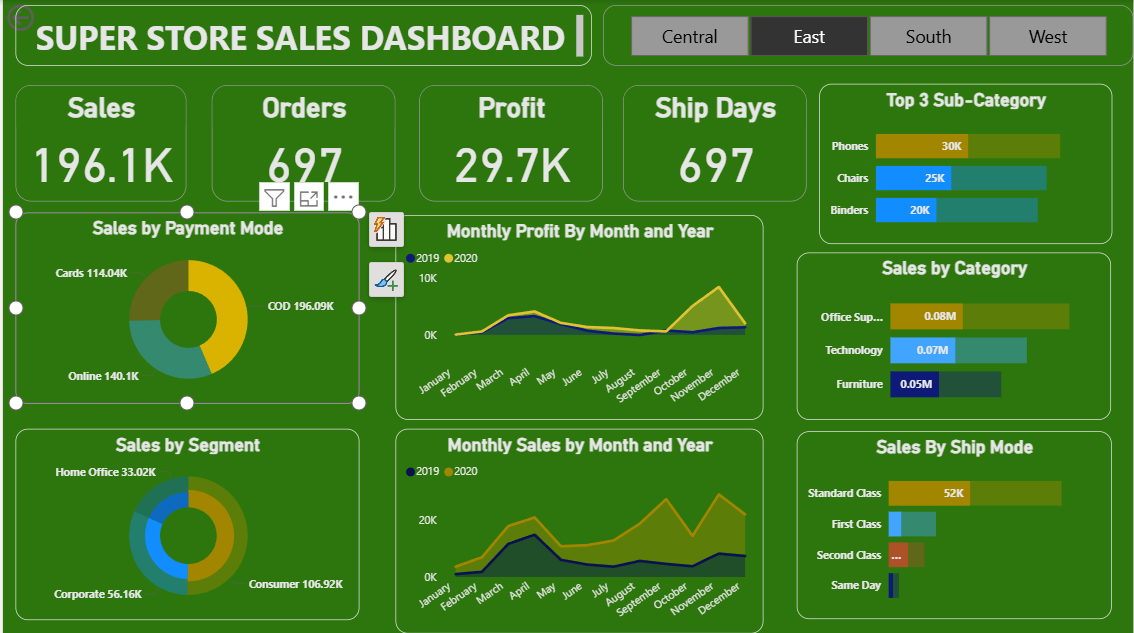

The dashboard page shown, as its layout file describes it:
{"tool":"powerbi","page":{"name":"Page 2","canvas":[1280,720],"ordinal":1},"visuals":[{"type":"card","title":"Sales","fields":{"Values":["Sum(Super Store Sales Data.Sales)"]},"box":[13.7,96,193.3,131.6],"z":0},{"type":"card","title":"Orders","fields":{"Values":["CountNonNull(Super Store Sales Data.Quantity)"]},"box":[235.8,96,208.4,131.6],"z":1000},{"type":"card","title":"Profit","fields":{"Values":["Sum(Super Store Sales Data.Profit)"]},"box":[471.6,96,208.4,131.6],"z":2000},{"type":"card","title":"Ship Days","fields":{"Values":["CountNonNull(Super Store Sales Data.AvgDelivery)"]},"box":[702,96,208.4,131.6],"z":3000},{"type":"actionButton","box":[0,0,100,40],"z":4000},{"type":"textbox","box":[13.7,5.5,652.6,68.6],"z":5000},{"type":"slicer","fields":{"Values":["Super Store Sales Data.Region"]},"box":[680,5.5,600.5,68.6],"z":6000},{"type":"donutChart","title":"Sales by Payment Mode","fields":{"Category":["Super Store Sales Data.Payment Mode"],"Y":["Sum(Super Store Sales Data.Sales)"]},"box":[13.7,241.3,389.4,216.6],"z":7000},{"type":"donutChart","title":"Sales by Segment","fields":{"Y":["Sum(Super Store Sales Data.Sales)"],"Category":["Super Store Sales Data.Segment"]},"box":[13.7,485.4,389.4,216.6],"z":8000},{"type":"clusteredBarChart","title":"Sales by Category","fields":{"Y":["Sum(Super Store Sales Data.Sales)"],"Category":["Super Store Sales Data.Category"]},"box":[899.7,286.7,356.3,189.8],"z":9000},{"type":"stackedAreaChart","title":"Monthly Profit By Month and Year","fields":{"Category":["Super Store Sales Data.Order Date.Variation.Date Hierarchy.Month"],"Series":["Super Store Sales Data.Order Date.Variation.Date Hierarchy.Year"],"Y":["Sum(Super Store Sales Data.Profit)"]},"box":[444.2,244,416.8,231.7],"z":10000},{"type":"stackedAreaChart","title":"Monthly Sales by Month and Year","fields":{"Category":["Super Store Sales Data.Order Date.Variation.Date Hierarchy.Month"],"Series":["Super Store Sales Data.Order Date.Variation.Date Hierarchy.Year"],"Y":["Sum(Super Store Sales Data.Sales)"]},"box":[444.2,485.4,416.8,231.7],"z":11000},{"type":"clusteredBarChart","title":"Top 3 Sub-Category","fields":{"Y":["Sum(Super Store Sales Data.Sales)"],"Category":["Super Store Sales Data.Sub-Category"]},"box":[924.2,95.6,331.7,181.6],"z":12000},{"type":"clusteredBarChart","title":"Sales By Ship Mode","fields":{"Y":["Sum(Super Store Sales Data.Sales)"],"Category":["Super Store Sales Data.Ship Mode"]},"box":[899.4,488.1,356.5,212.5],"z":13000}]}

Visuals, with their boxes in screenshot pixels (x1, y1, x2, y2), scaled from the page's 1280x720 canvas onto the 1134x633 screenshot:
"Sales" card: (left=12, top=84, right=183, bottom=200)
"Orders" card: (left=209, top=84, right=394, bottom=200)
"Profit" card: (left=418, top=84, right=602, bottom=200)
"Ship Days" card: (left=622, top=84, right=807, bottom=200)
actionButton: (left=0, top=0, right=89, bottom=35)
textbox: (left=12, top=5, right=590, bottom=65)
slicer - Super Store Sales Data.Region: (left=602, top=5, right=1133, bottom=65)
"Sales by Payment Mode" donutChart: (left=12, top=212, right=357, bottom=403)
"Sales by Segment" donutChart: (left=12, top=427, right=357, bottom=617)
"Sales by Category" clusteredBarChart: (left=797, top=252, right=1113, bottom=419)
"Monthly Profit By Month and Year" stackedAreaChart: (left=394, top=215, right=763, bottom=418)
"Monthly Sales by Month and Year" stackedAreaChart: (left=394, top=427, right=763, bottom=630)
"Top 3 Sub-Category" clusteredBarChart: (left=819, top=84, right=1113, bottom=244)
"Sales By Ship Mode" clusteredBarChart: (left=797, top=429, right=1113, bottom=616)
